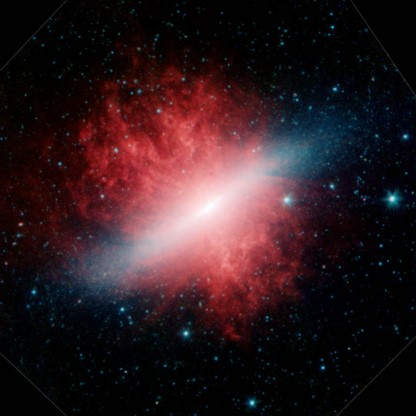Messier 82: (46, 63, 371, 333)
